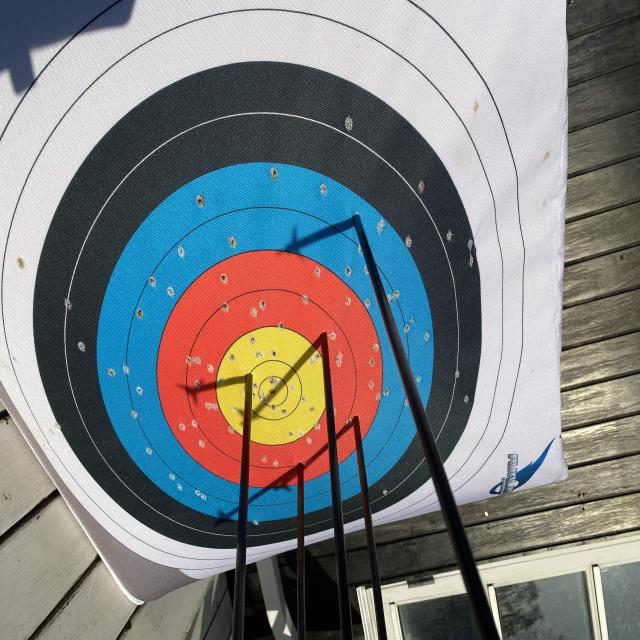Arrow_Blue: (348, 200, 372, 248)
Arrow_Red: (308, 316, 336, 356), (286, 446, 312, 479), (349, 400, 363, 446)
Arrow_Yellow: (230, 357, 263, 400)
